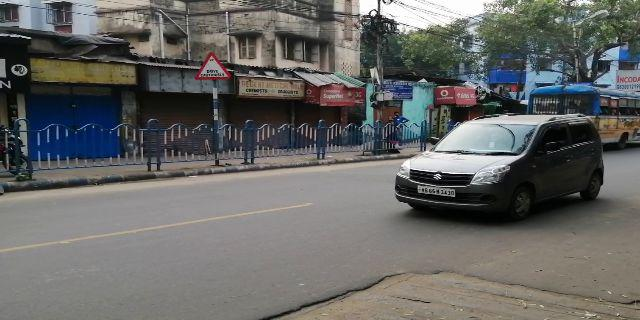Bus: (525, 82, 640, 149)
Car: (397, 111, 611, 216)
